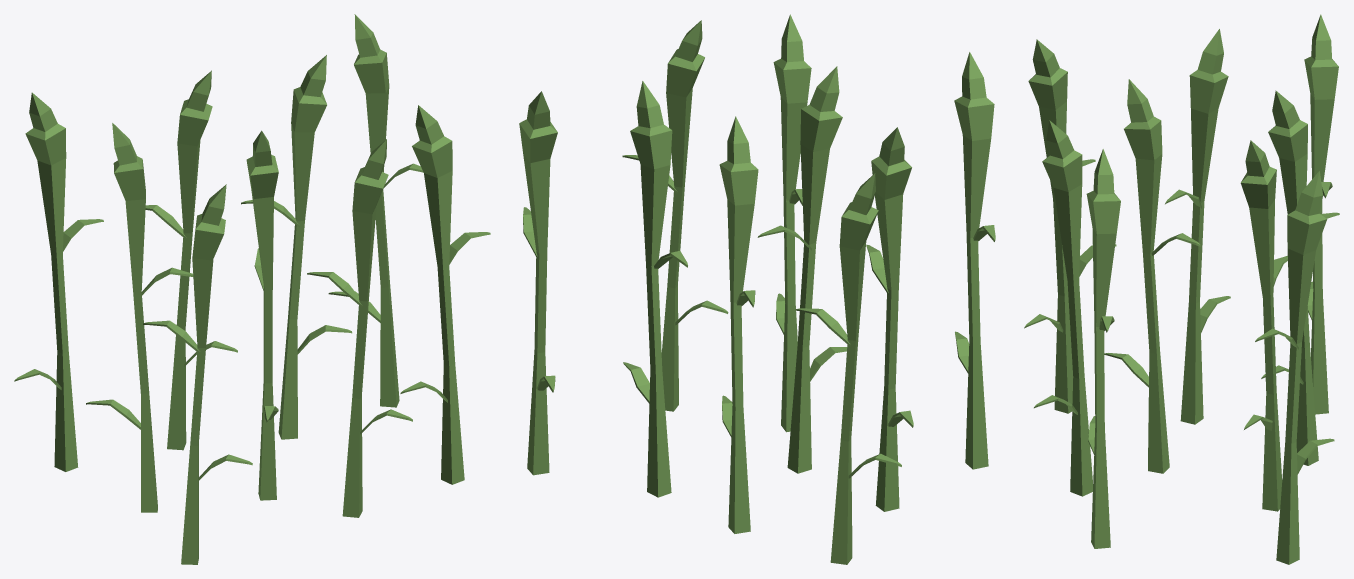
Rendered from Wheat_2.glb.
3 renders of one model, left to right at view 1: azimuth 30°, elevation 25°; view 2: azimuth 150°, elevation 25°; view 3: azimuth 270°, elevation 25°, orthographic. The views are drawn at different scales.
Visible parts, largest first — view 1: Wheat_2.004, Wheat_2.007, Wheat_2.003, Wheat_2.005, Wheat_2.001, Wheat_2.002, Wheat_2.006, Wheat_2.008, Wheat_2; view 2: Wheat_2.003, Wheat_2, Wheat_2.006, Wheat_2.002, Wheat_2.001, Wheat_2.007, Wheat_2.008, Wheat_2.005, Wheat_2.004; view 3: Wheat_2.008, Wheat_2, Wheat_2.001, Wheat_2.005, Wheat_2.004, Wheat_2.003, Wheat_2.007, Wheat_2.006, Wheat_2.002.
Boxes of the visible parts, bbox=[...] form: Wheat_2.004: bbox=[400, 105, 490, 484]; Wheat_2.007: bbox=[14, 92, 103, 471]; Wheat_2.003: bbox=[241, 55, 352, 439]; Wheat_2.005: bbox=[307, 139, 412, 517]; Wheat_2.001: bbox=[86, 123, 193, 512]; Wheat_2.002: bbox=[145, 70, 237, 450]; Wheat_2.006: bbox=[143, 184, 252, 564]; Wheat_2.008: bbox=[328, 14, 423, 407]; Wheat_2: bbox=[246, 130, 278, 500]; Wheat_2.003: bbox=[623, 81, 687, 497]; Wheat_2: bbox=[757, 66, 847, 473]; Wheat_2.006: bbox=[954, 52, 995, 469]; Wheat_2.002: bbox=[719, 116, 758, 533]; Wheat_2.001: bbox=[866, 127, 913, 511]; Wheat_2.007: bbox=[795, 173, 901, 564]; Wheat_2.008: bbox=[519, 91, 557, 475]; Wheat_2.005: bbox=[773, 14, 811, 432]; Wheat_2.004: bbox=[622, 20, 728, 411]; Wheat_2.008: bbox=[1255, 171, 1334, 564]; Wheat_2: bbox=[1104, 79, 1200, 473]; Wheat_2.001: bbox=[1165, 29, 1230, 424]; Wheat_2.005: bbox=[1034, 120, 1116, 496]; Wheat_2.004: bbox=[1086, 149, 1120, 548]; Wheat_2.003: bbox=[1240, 140, 1287, 511]; Wheat_2.007: bbox=[1304, 14, 1338, 414]; Wheat_2.006: bbox=[1024, 39, 1095, 413]; Wheat_2.002: bbox=[1261, 90, 1339, 465].
Size of the model in its own units: 0.5791 by 0.5389 by 0.4056.
